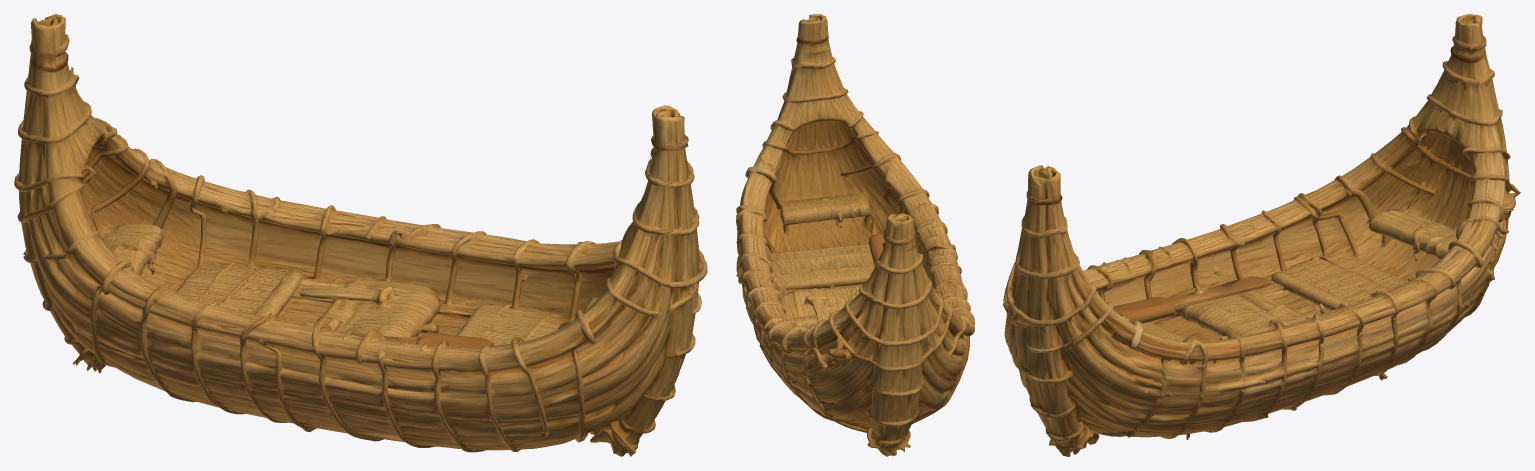
The model's file is boat.glb.
The picture shows the model from 3 angles, left to right: view 1: azimuth 30°, elevation 25°; view 2: azimuth 150°, elevation 25°; view 3: azimuth 270°, elevation 25°; orthographic projection. The views are drawn at different scales.
Parts seen in each view (by area): view 1: tripo_node_ab528755-0414-468a-85b5-637d088e3647; view 2: tripo_node_ab528755-0414-468a-85b5-637d088e3647; view 3: tripo_node_ab528755-0414-468a-85b5-637d088e3647.
Part boxes in pixels (bbox=[...]): tripo_node_ab528755-0414-468a-85b5-637d088e3647: bbox=[14, 14, 707, 456]; tripo_node_ab528755-0414-468a-85b5-637d088e3647: bbox=[736, 14, 974, 456]; tripo_node_ab528755-0414-468a-85b5-637d088e3647: bbox=[1003, 14, 1520, 456].
Bounding box in the file's own units: 0.8428 × 0.6378 × 0.9841.
1 material, 1 textured.
